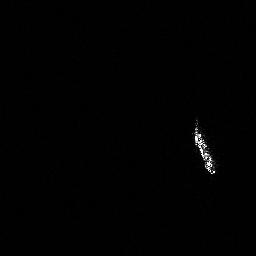ship: (191, 116, 220, 177)
